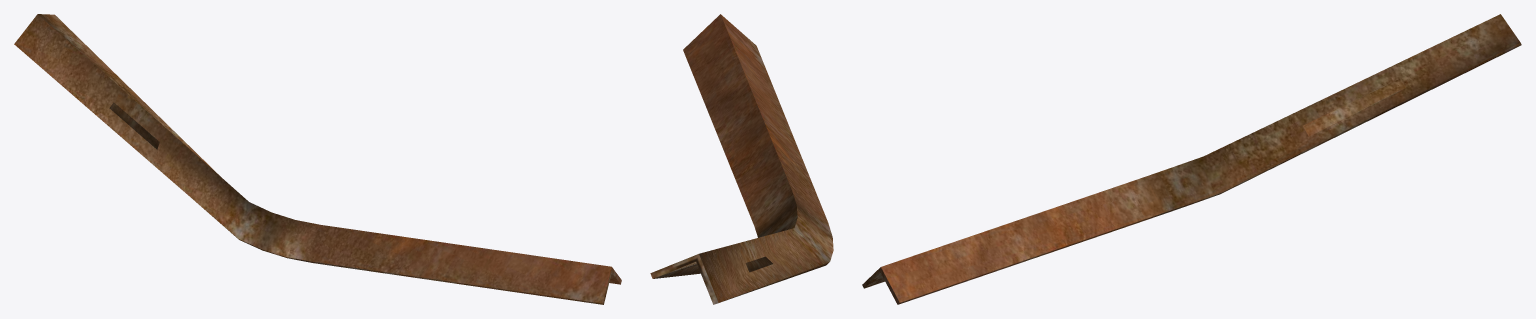
Rendered from junk_scrap_03.glb.
The picture shows the model from 3 angles, left to right: view 1: azimuth 30°, elevation 25°; view 2: azimuth 150°, elevation 25°; view 3: azimuth 270°, elevation 25°; orthographic projection. The views are drawn at different scales.
Parts seen in each view (by area): view 1: junk_scrap_03; view 2: junk_scrap_03; view 3: junk_scrap_03.
Boxes of the visible parts, x1,y1,x2,y2 form: junk_scrap_03: (14, 14, 621, 304); junk_scrap_03: (650, 14, 833, 304); junk_scrap_03: (862, 14, 1521, 304).
Size of what is drawn, in the model's own units: 0.3761 by 0.1544 by 0.6451.
1 material, 1 textured.
